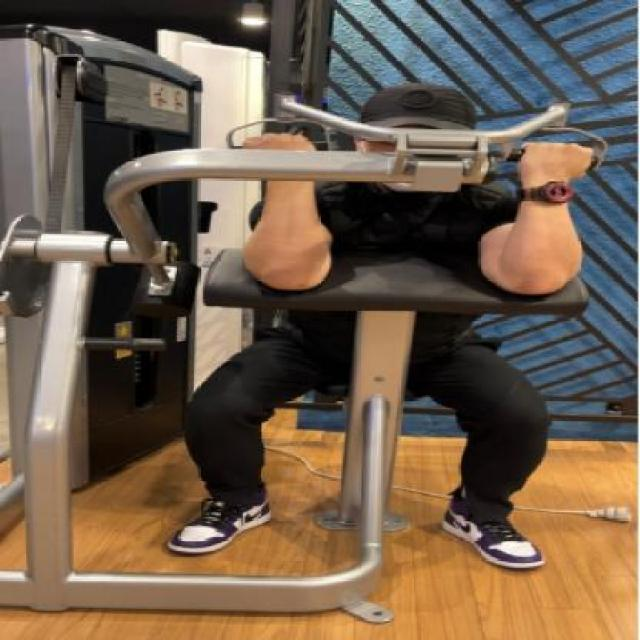arm curl machine: (0, 92, 592, 615)
